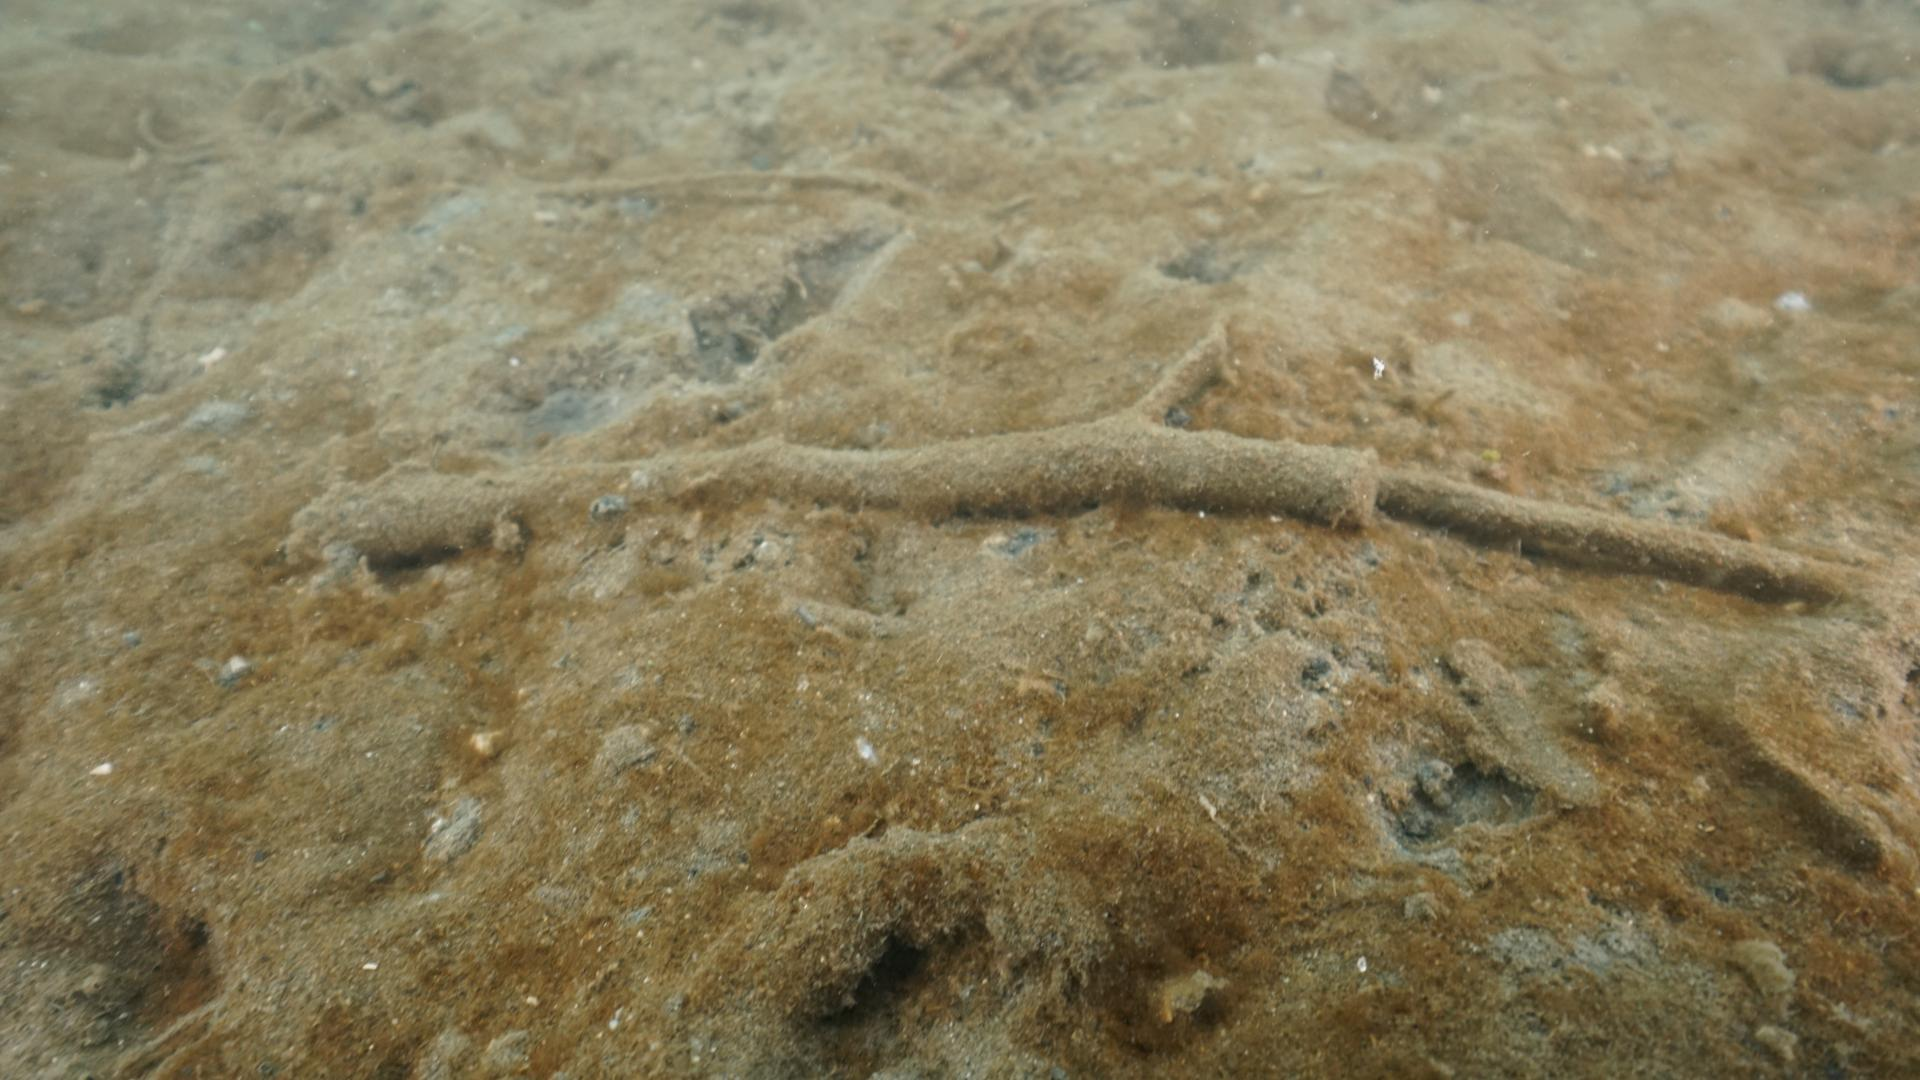wood: (281, 306, 1898, 612)
